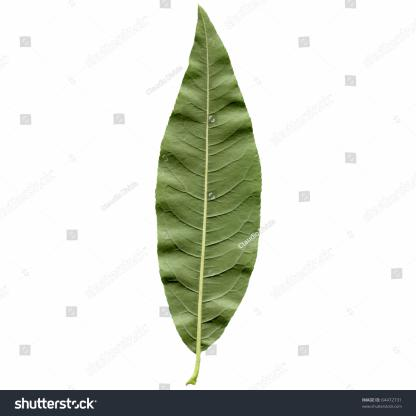peach leaf: (147, 7, 267, 356)
